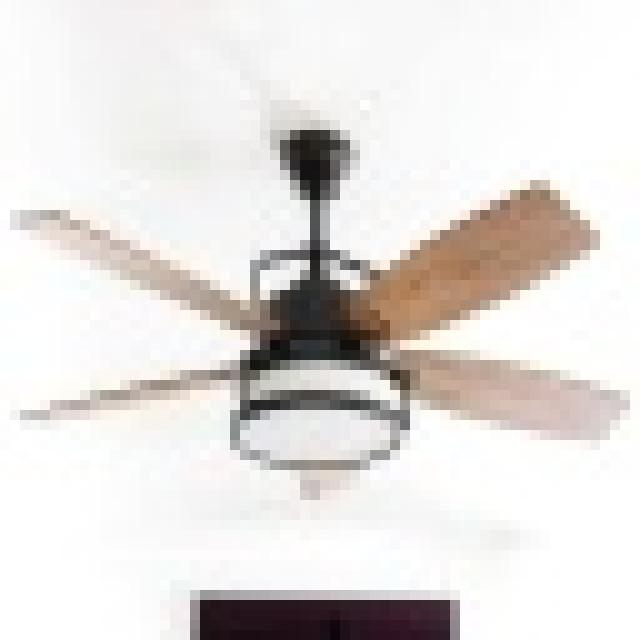Bulb: (16, 167, 640, 480)
